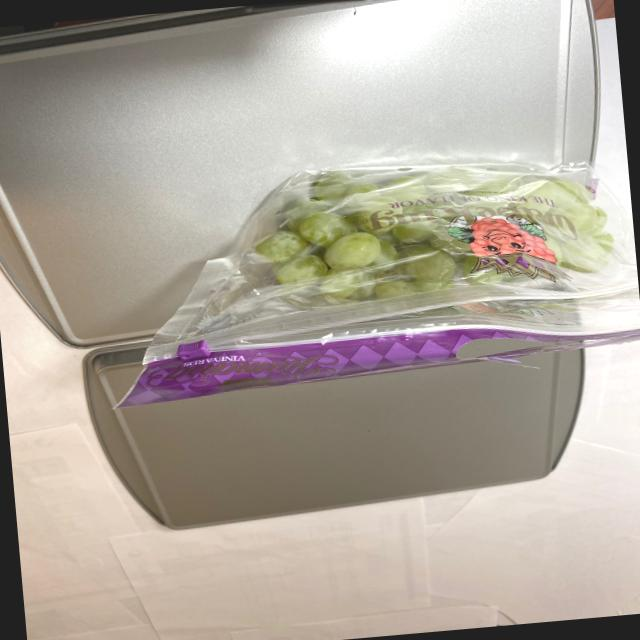grapes: (204, 154, 616, 319)
